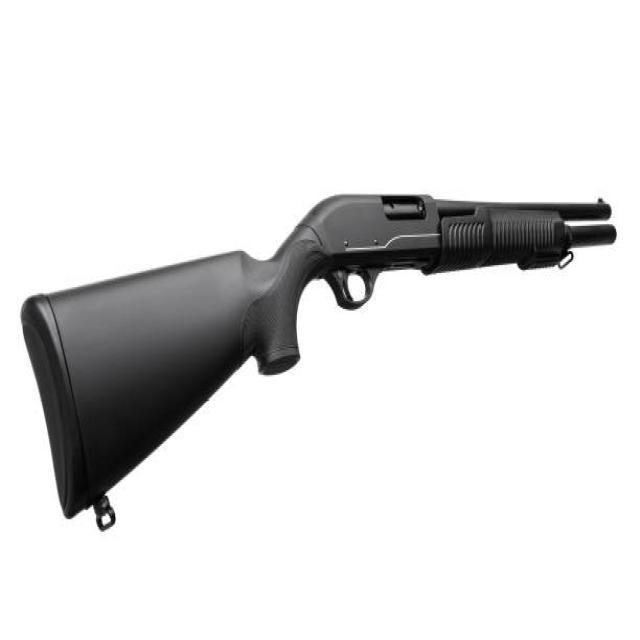rifle: (15, 171, 621, 548)
